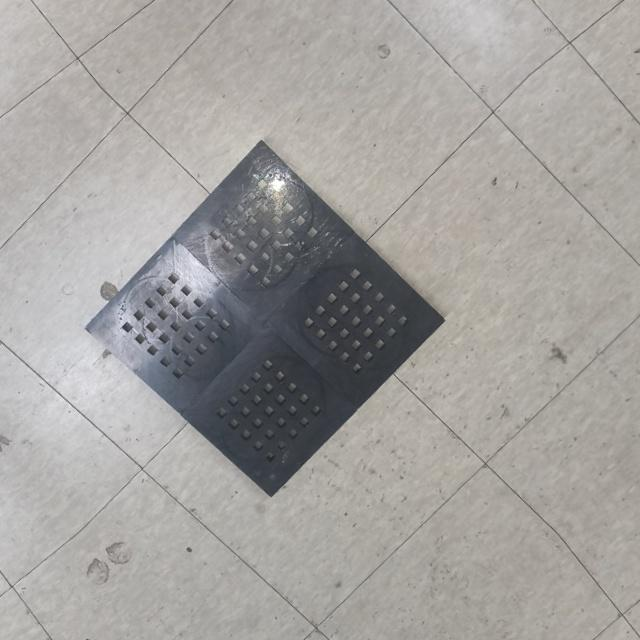pallet: (61, 122, 466, 528)
